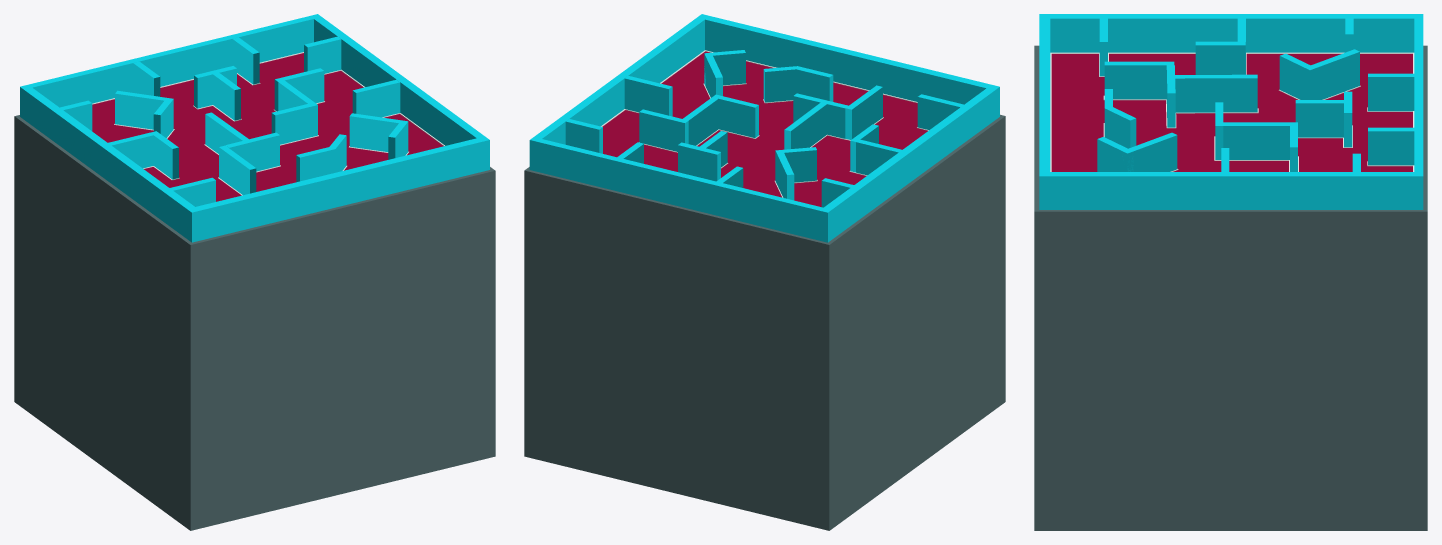
Rendered from Level_10.FBX.
3 views of the same model, side by side, from view 1: azimuth 30°, elevation 25°; view 2: azimuth 150°, elevation 25°; view 3: azimuth 270°, elevation 25° (orthographic). The views are drawn at different scales.
Parts seen in each view (by area): view 1: Level_10; view 2: Level_10; view 3: Level_10.
Boxes of the visible parts, <box> form: Level_10: <box>14,14,495,530</box>; Level_10: <box>524,14,1005,530</box>; Level_10: <box>1034,14,1427,530</box>.
Size of the model in its own units: 138 by 137 by 138.
